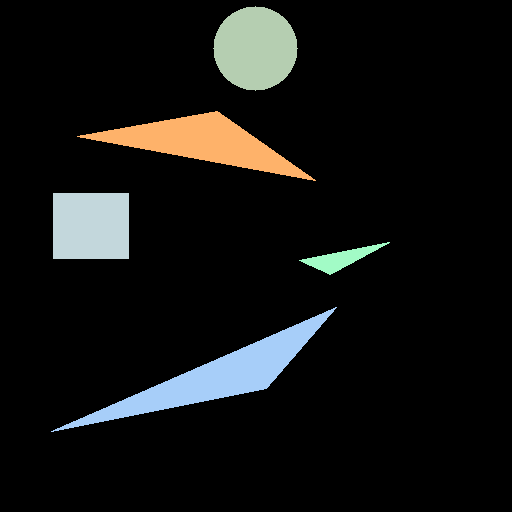circle: (213, 6, 297, 90)
rectangle: (53, 193, 128, 258)
triangle: (51, 307, 336, 431), (77, 111, 315, 180), (299, 242, 389, 274)
